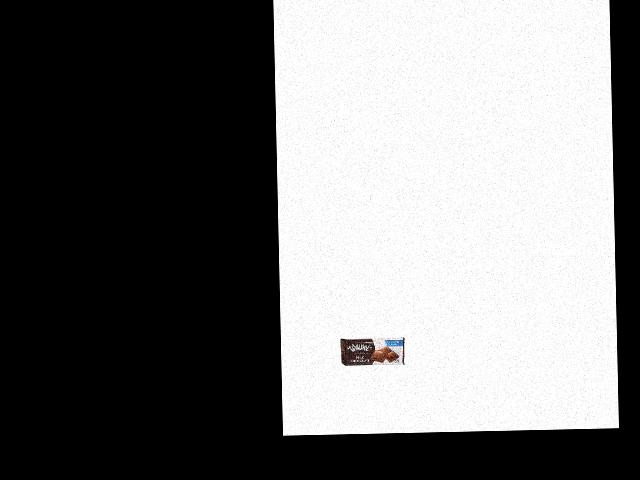chocolate: (341, 336, 405, 367)
